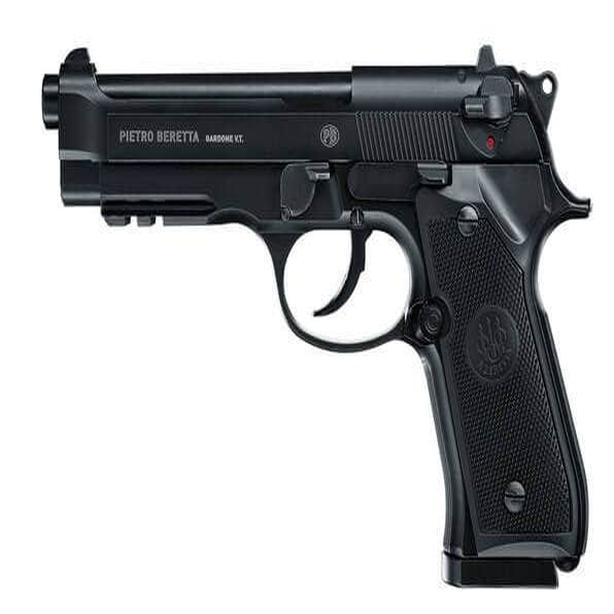Firearm: (28, 45, 606, 588)
